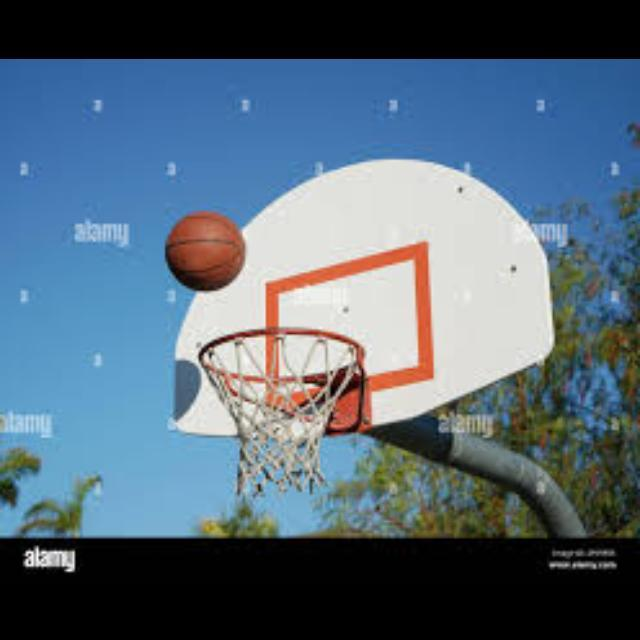basketball: (168, 210, 244, 288)
rim: (199, 327, 363, 489)
